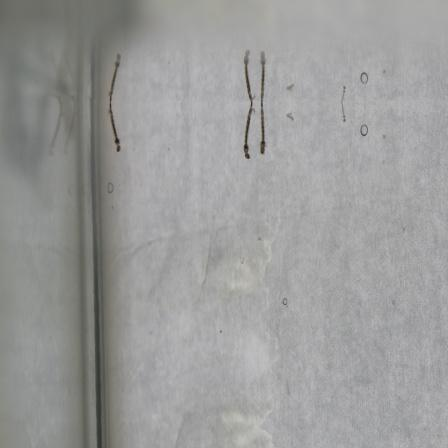Jentik-Nyamuk: (107, 104, 124, 156), (241, 99, 255, 162), (257, 101, 270, 158)
